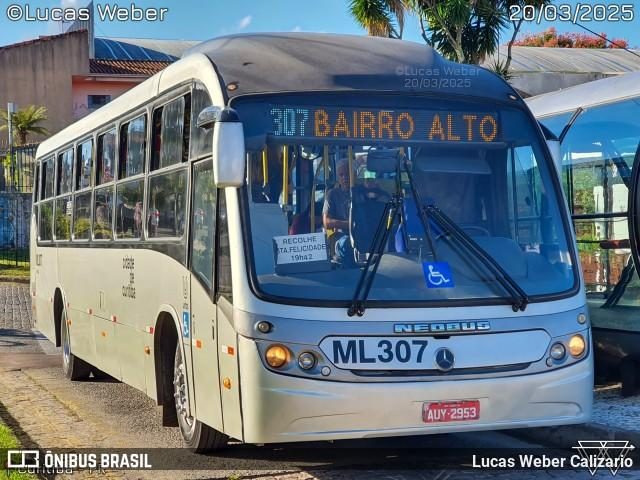BAIRRO ALTO: (311, 106, 502, 144)
